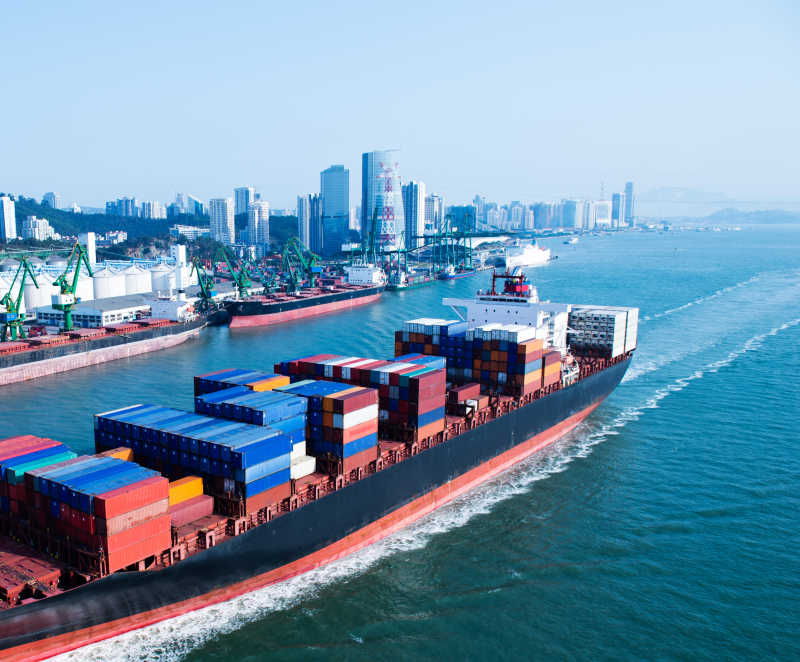Cargoship: (14, 243, 633, 662)
